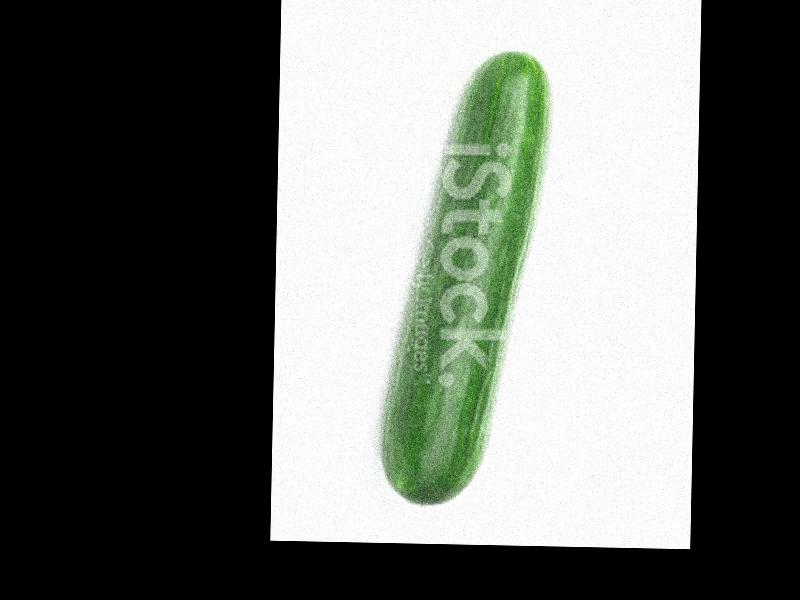Cucumber: (381, 47, 552, 509)
